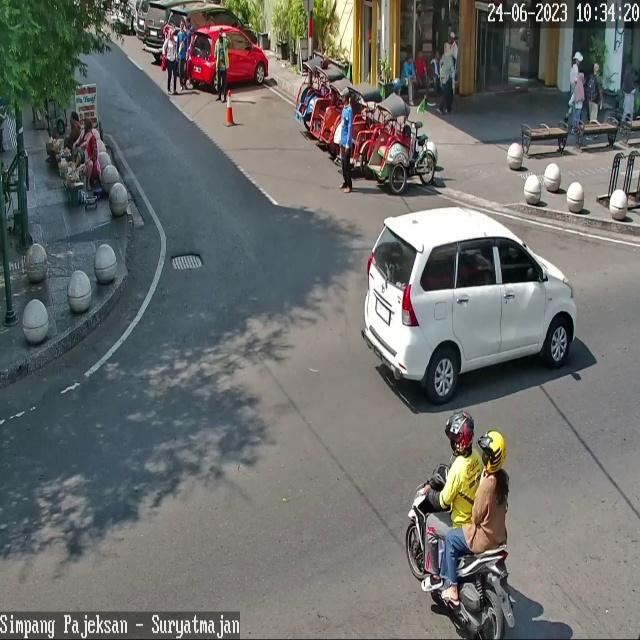bus: (405, 463, 515, 640)
motorcycle: (364, 207, 576, 406), (163, 3, 257, 63), (186, 25, 268, 92), (144, 0, 172, 52)
